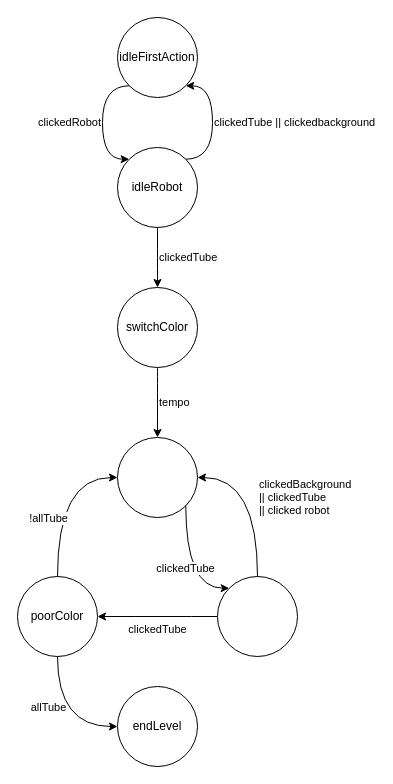
Image size: 393x784. Some labels were removed from this diagram. Each missing label, with the box of its shape:
idleNoTube: (116, 436, 198, 518)
idleTube: (216, 576, 298, 656)
